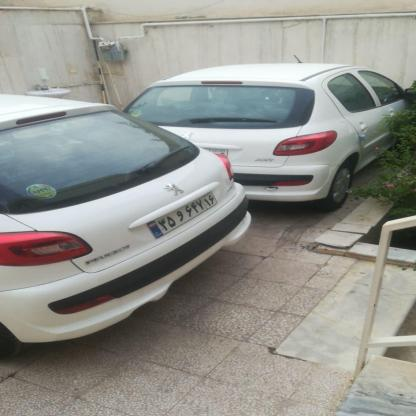Car: (0, 103, 230, 345), (119, 57, 416, 213)
